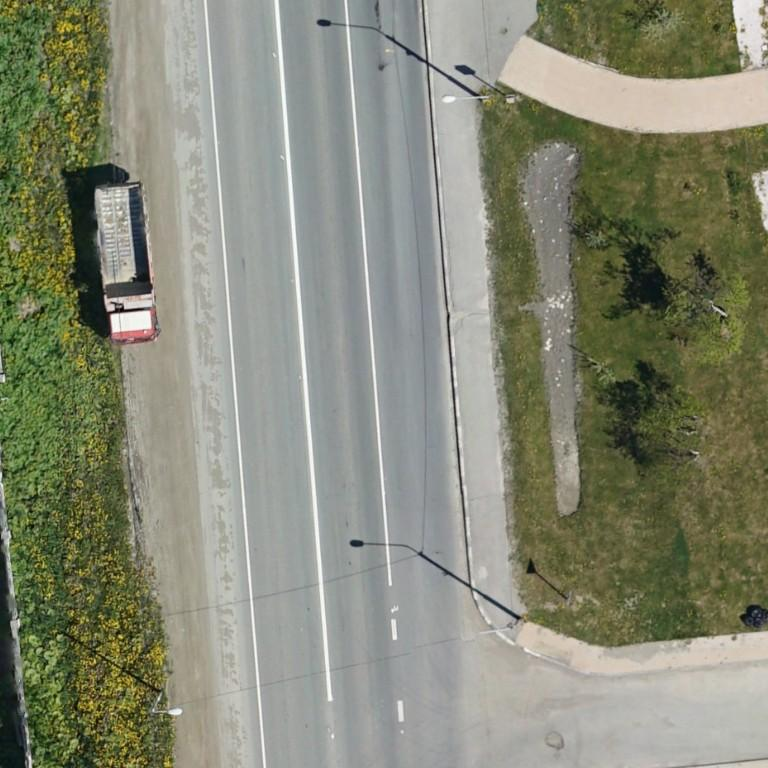hogweed: (0, 285, 74, 494), (0, 9, 47, 153)
